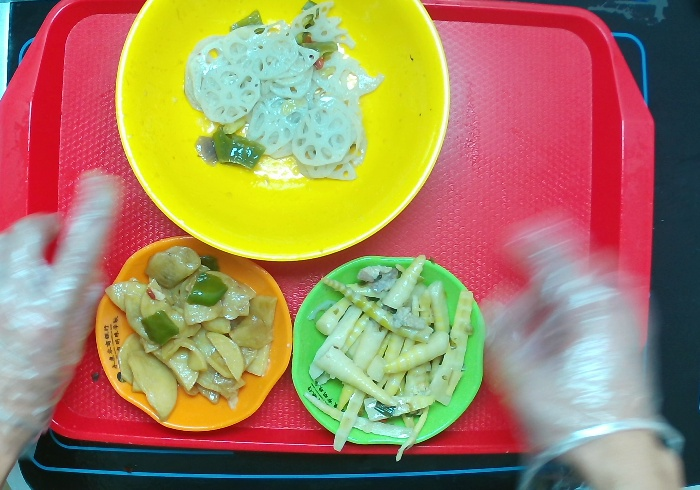YKMZ-Huang_Se_Tang_Wan: (113, 1, 452, 262)
YKMZ-Ju_Se_Ao_Bian_Wan: (90, 233, 295, 434)
YKMZ-Lv_Se_Ao_Bian_Wan: (289, 253, 488, 450)
